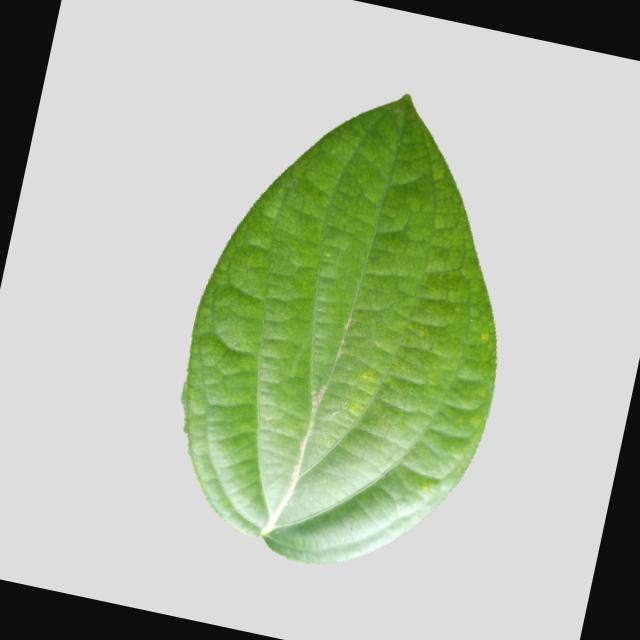healthy: (142, 52, 557, 599)
